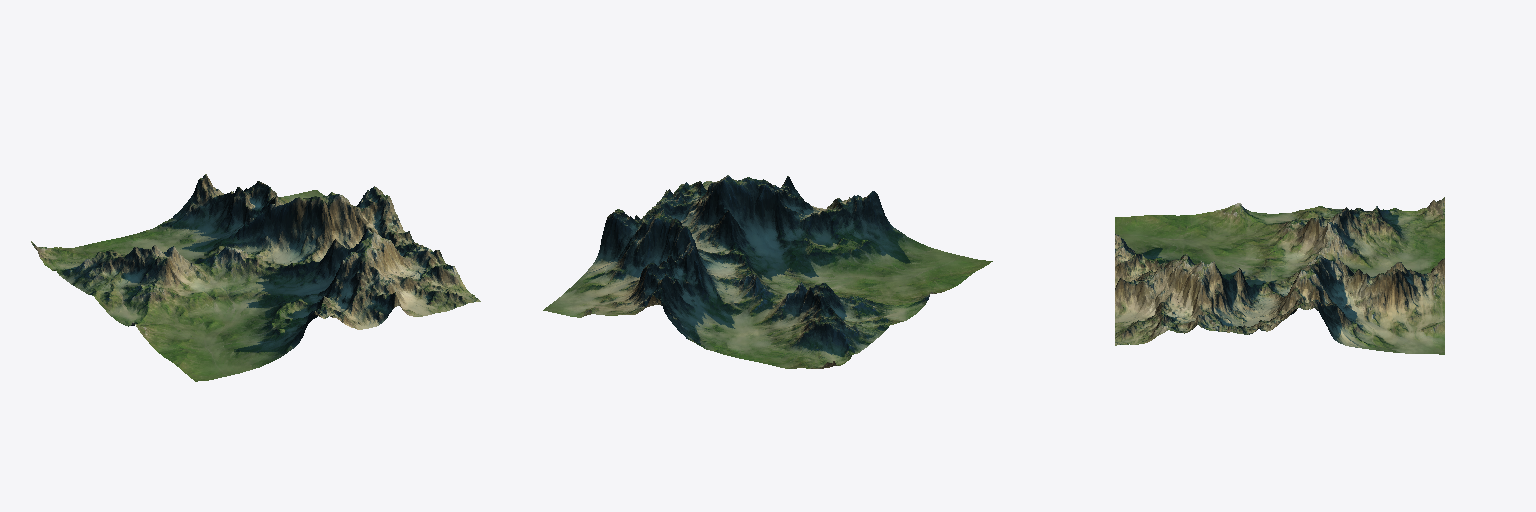
3 renders of one model, left to right at view 1: azimuth 30°, elevation 25°; view 2: azimuth 150°, elevation 25°; view 3: azimuth 270°, elevation 25°, orthographic.
Parts seen in each view (by area): view 1: mountains; view 2: mountains; view 3: mountains.
Boxes of the visible parts, x1=… form: mountains: x1=31, y1=174, x2=480, y2=381; mountains: x1=543, y1=175, x2=992, y2=368; mountains: x1=1115, y1=197, x2=1444, y2=354.
Bounding box in the file's own units: 1 × 0.2218 × 1.
Materials: 1 (1 with a texture image).